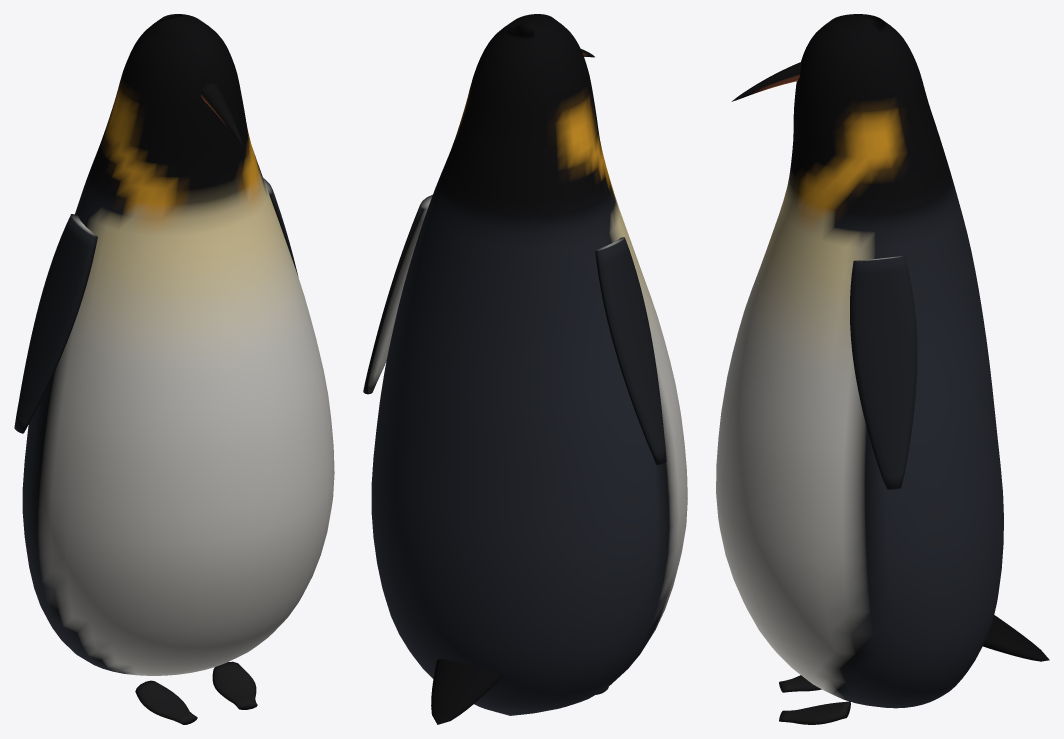
Rendered from penguin.glb.
3 renders of one model, left to right at view 1: azimuth 30°, elevation 25°; view 2: azimuth 150°, elevation 25°; view 3: azimuth 270°, elevation 25°, orthographic. The views are drawn at different scales.
Parts seen in each view (by area): view 1: Body, FlipperL, FootR, FootL, Beak; view 2: Body, FlipperL, Beak, FlipperR; view 3: Body, FlipperR, Beak, FootR.
Boxes of the visible parts, box(x1,y1,x2,y2) form: Body: box(22, 14, 334, 675); FlipperL: box(14, 214, 97, 433); FootR: box(212, 661, 257, 709); FootL: box(135, 680, 197, 724); Beak: box(200, 83, 242, 145); Body: box(371, 14, 687, 715); FlipperL: box(595, 237, 666, 464); Beak: box(431, 49, 594, 724); FlipperR: box(363, 194, 432, 394); Body: box(716, 14, 1003, 708); FlipperR: box(850, 256, 917, 489); Beak: box(731, 62, 1049, 661); FootR: box(779, 701, 850, 724).
Size of the model in its own units: 0.5129 by 1.11 by 0.4884.
